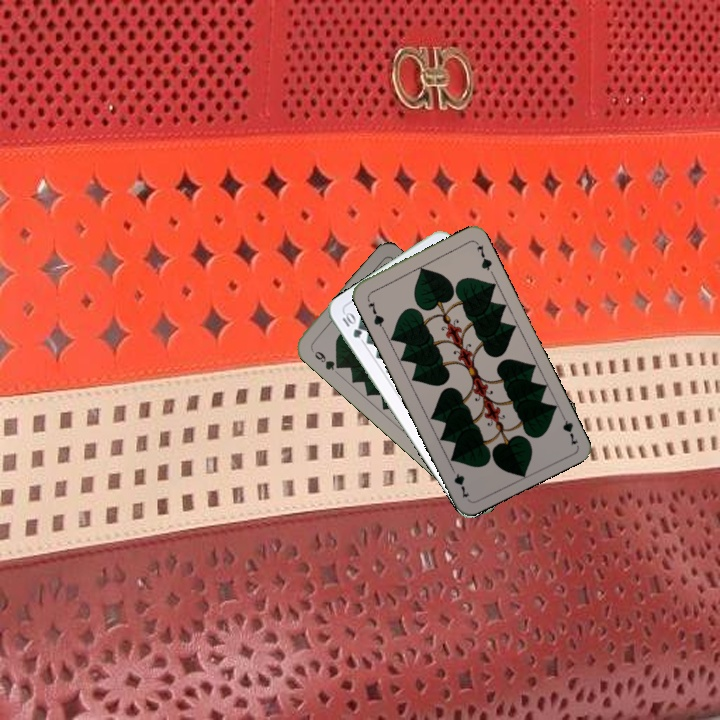G10: (338, 308, 365, 341)
G7: (557, 408, 581, 448), (363, 293, 387, 331)
G9: (307, 344, 344, 373)
